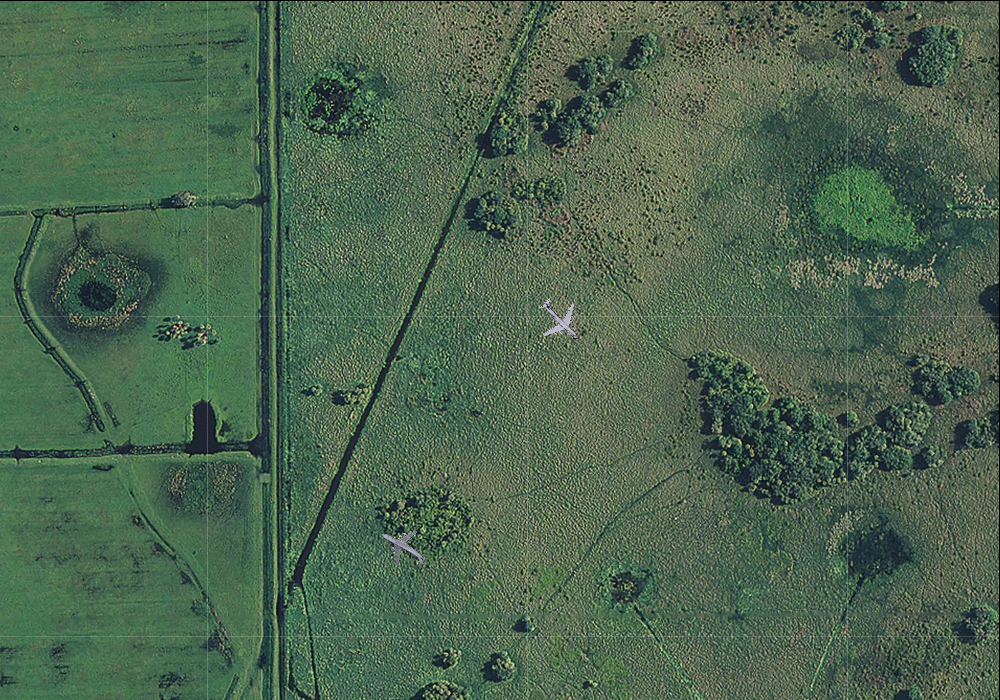plane: (526, 285, 595, 354), (368, 515, 438, 582)
